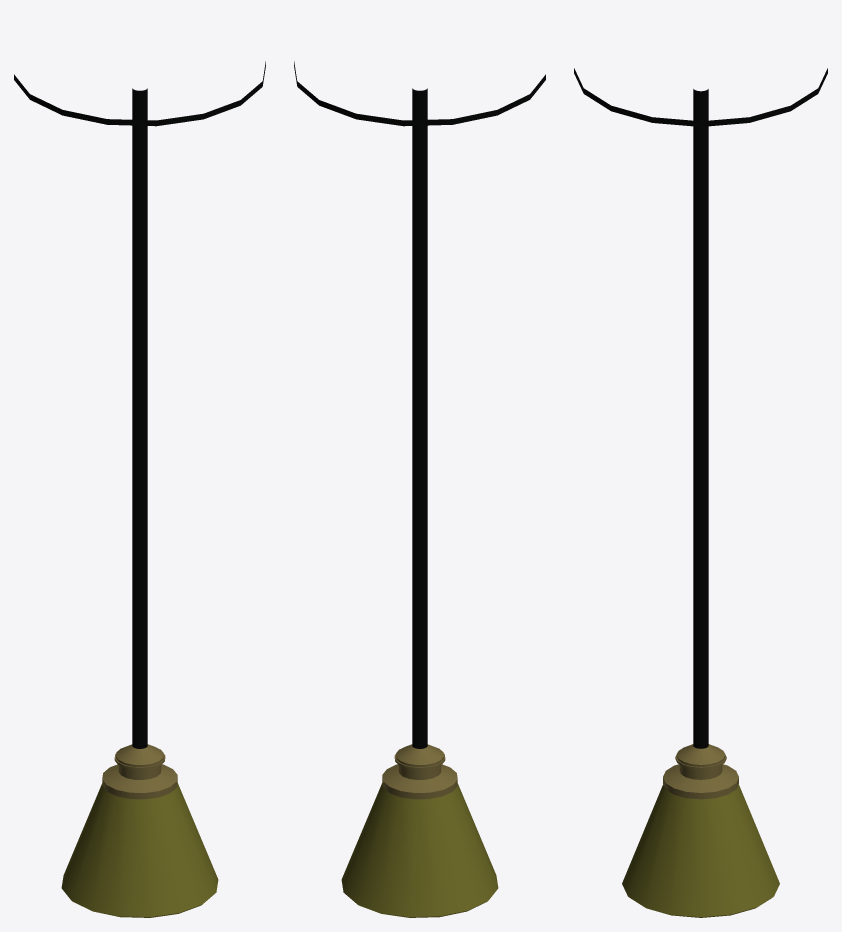
File: LightFixture2.fbx
3 views of the same model, side by side, from view 1: azimuth 30°, elevation 25°; view 2: azimuth 150°, elevation 25°; view 3: azimuth 270°, elevation 25° (orthographic).
Visible parts, largest first — view 1: LightFixture2; view 2: LightFixture2; view 3: LightFixture2.
Boxes of the visible parts, box(x1,y1,x2,y2) form: LightFixture2: box(14, 61, 265, 917); LightFixture2: box(294, 61, 545, 917); LightFixture2: box(574, 68, 827, 917).
Size of the model in its own units: 20 by 71.07 by 20.
